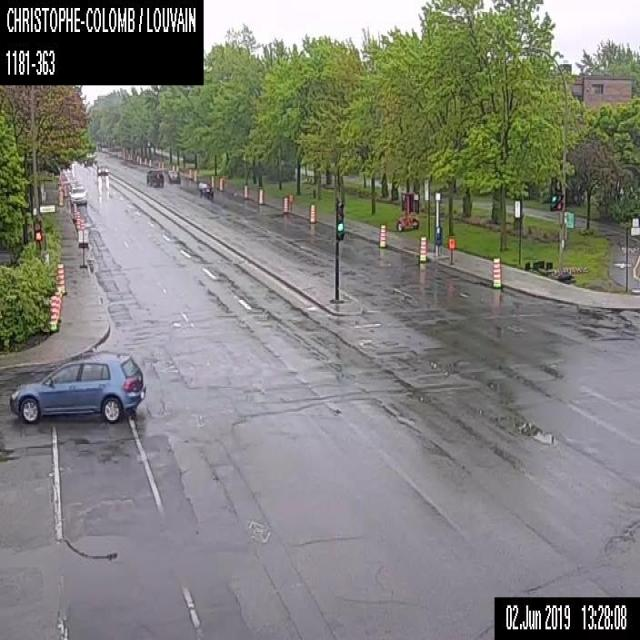construction: (396, 190, 420, 233), (77, 228, 88, 268), (47, 294, 58, 333), (491, 256, 502, 288), (56, 262, 66, 295), (418, 235, 427, 262), (447, 236, 455, 264), (54, 290, 61, 322), (378, 223, 386, 248), (308, 202, 316, 222), (54, 297, 59, 327), (57, 189, 63, 204), (283, 196, 288, 213), (288, 192, 292, 212), (76, 211, 80, 229), (258, 188, 262, 203), (72, 202, 76, 216), (73, 210, 77, 224), (63, 183, 67, 197), (243, 184, 247, 197), (210, 174, 214, 187), (219, 178, 223, 190), (188, 167, 192, 179), (80, 218, 84, 228), (160, 160, 163, 170), (194, 170, 196, 182), (148, 158, 151, 166), (144, 156, 146, 165), (139, 155, 141, 164)
vehicle: (8, 350, 146, 426), (69, 182, 87, 204), (146, 169, 163, 186), (197, 181, 212, 196), (166, 169, 180, 182), (96, 162, 108, 174)
